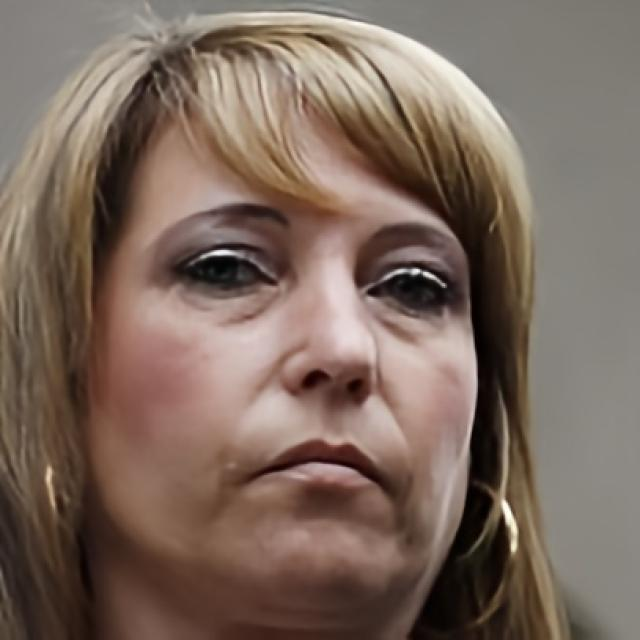sad: (94, 98, 480, 594)
